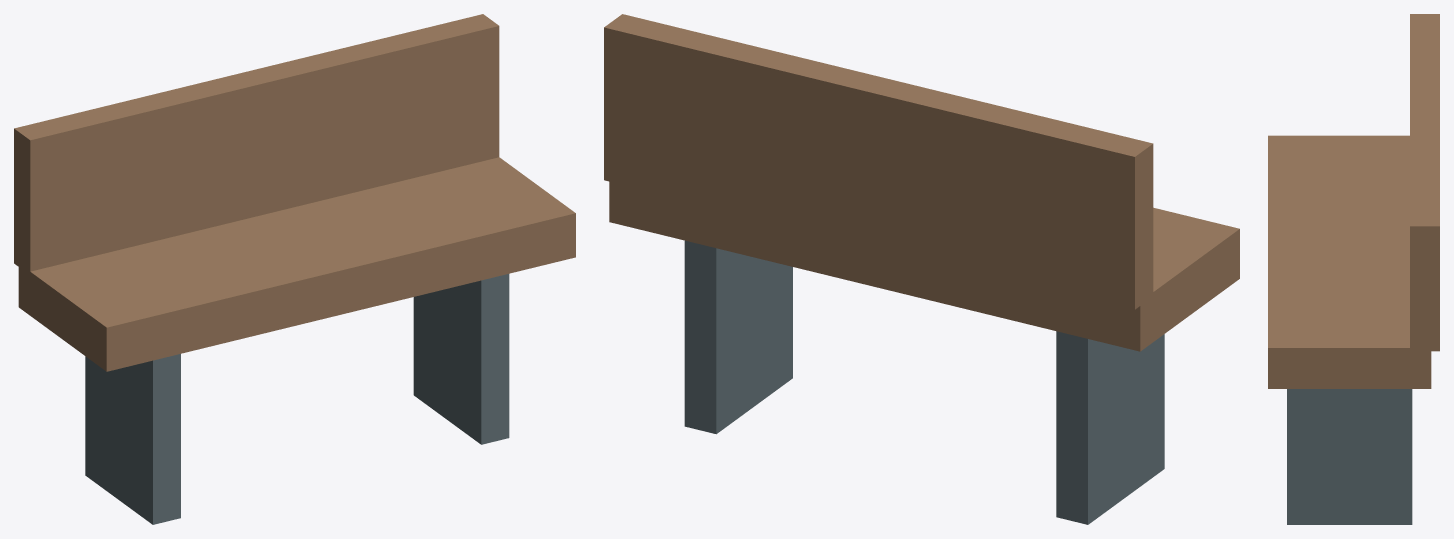
The model's file is bench.glb.
3 views of the same model, side by side, from view 1: azimuth 30°, elevation 25°; view 2: azimuth 150°, elevation 25°; view 3: azimuth 270°, elevation 25° (orthographic). The views are drawn at different scales.
Size of the model in its own units: 0.5 by 0.3562 by 0.1713.
